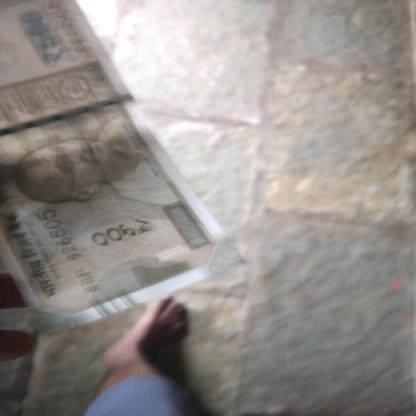New500Front: (6, 9, 177, 304)
